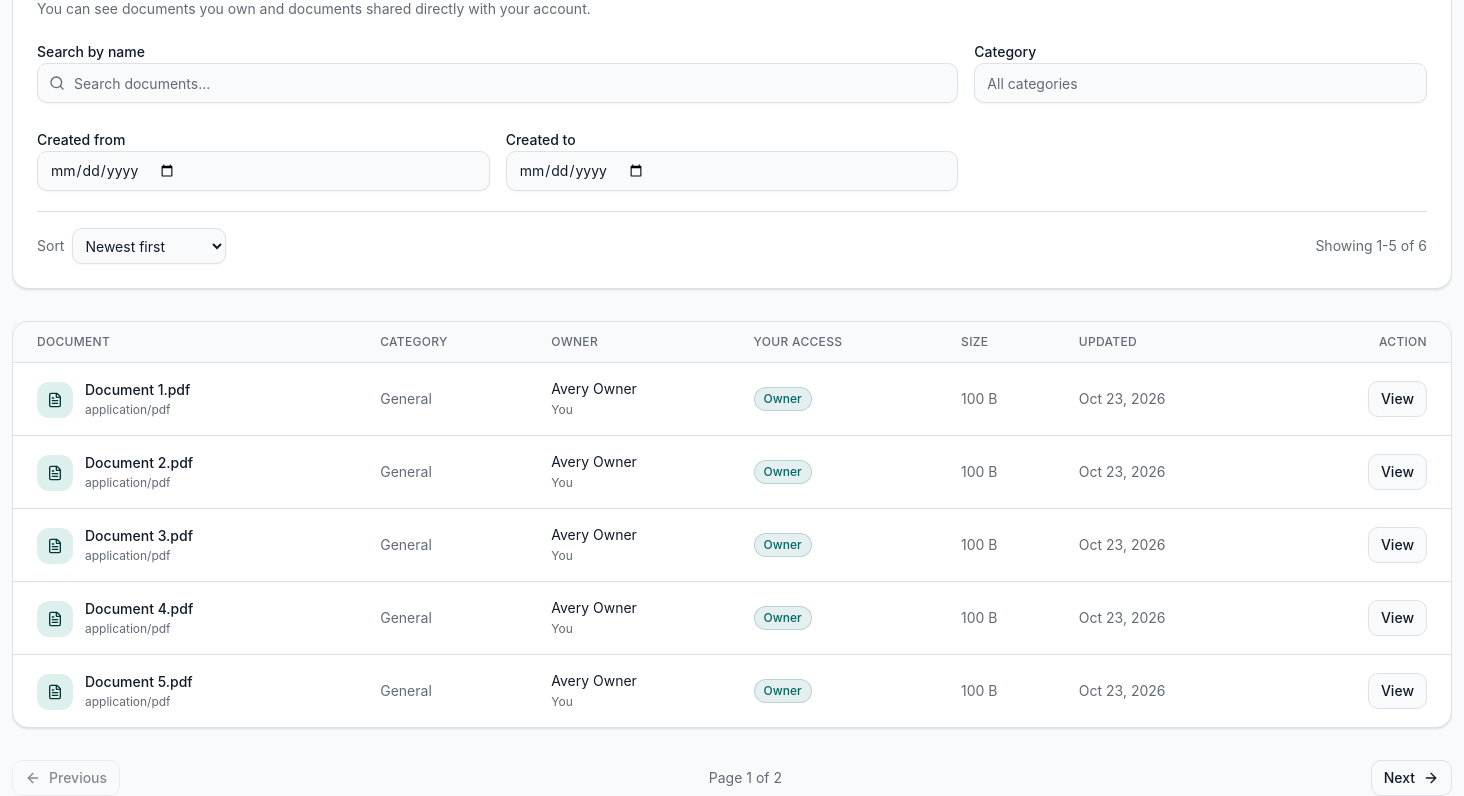
Scenario: DocumentsPage pagination › requests five documents per page and paginates without exposing owner UUIDs
This screenshot has width=1464, height=796.
(page scrolled)
Expected: the link "Document 1.pdf" is shown, top-left (85, 380), bottom-right (190, 400)
Expected: the link "Document 5.pdf" is shown, top-left (85, 672), bottom-right (193, 692)
Click the button "Next" at coordinates (1411, 778), box top-left (1371, 760), bottom-right (1452, 795)
(page scrolled)
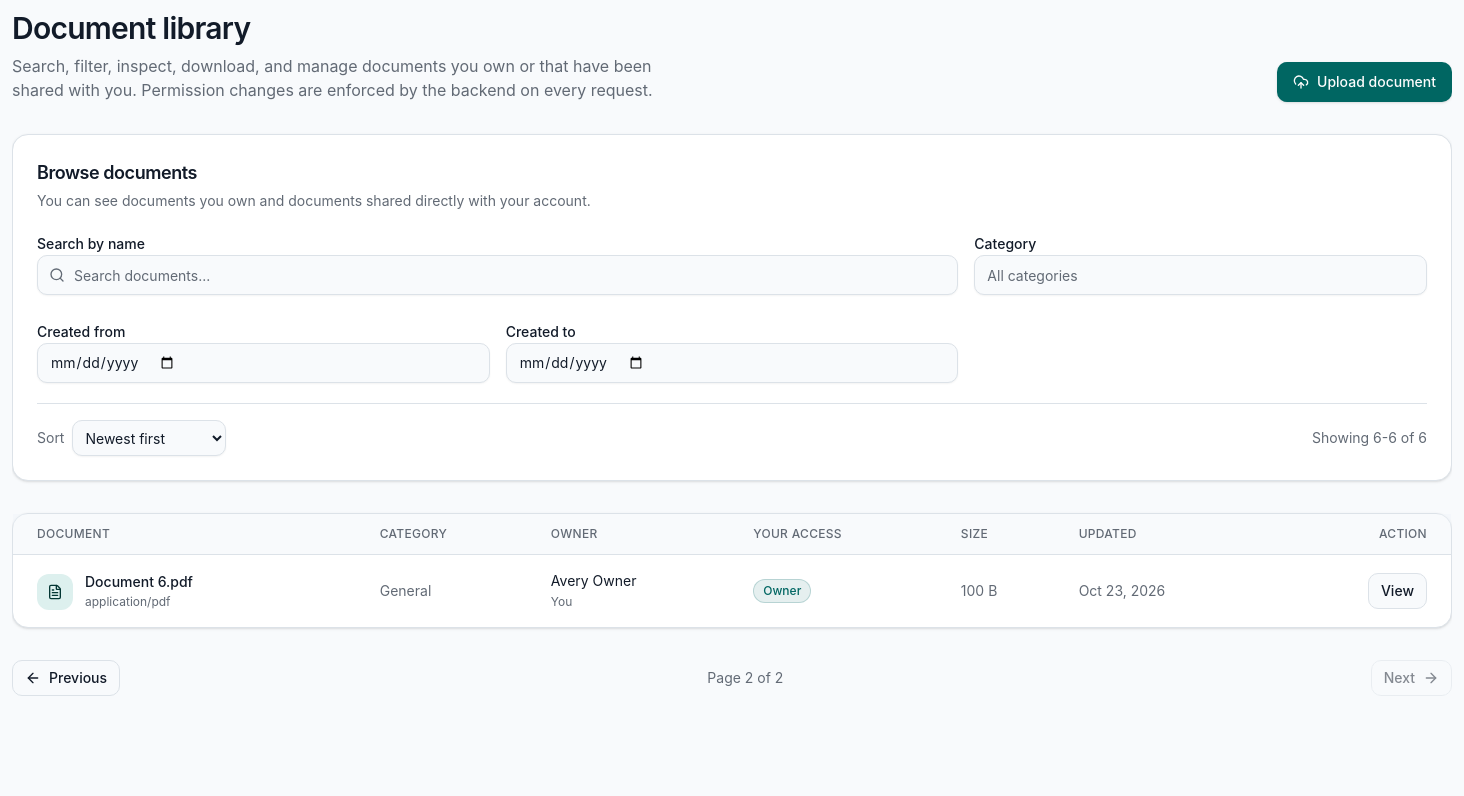
Result: the link "Document 6.pdf" is shown at top-left (85, 572), bottom-right (193, 592)
Result: the text "Page 2 of 2" is shown at top-left (707, 668), bottom-right (783, 688)
